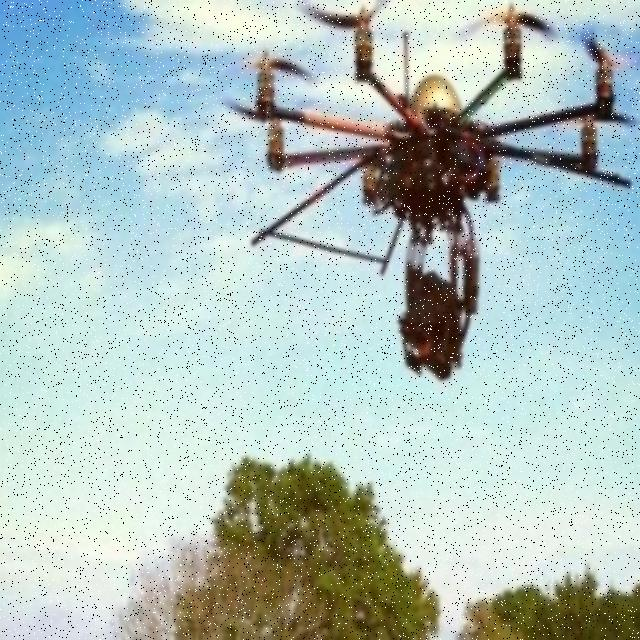UAV: (250, 18, 624, 384)
